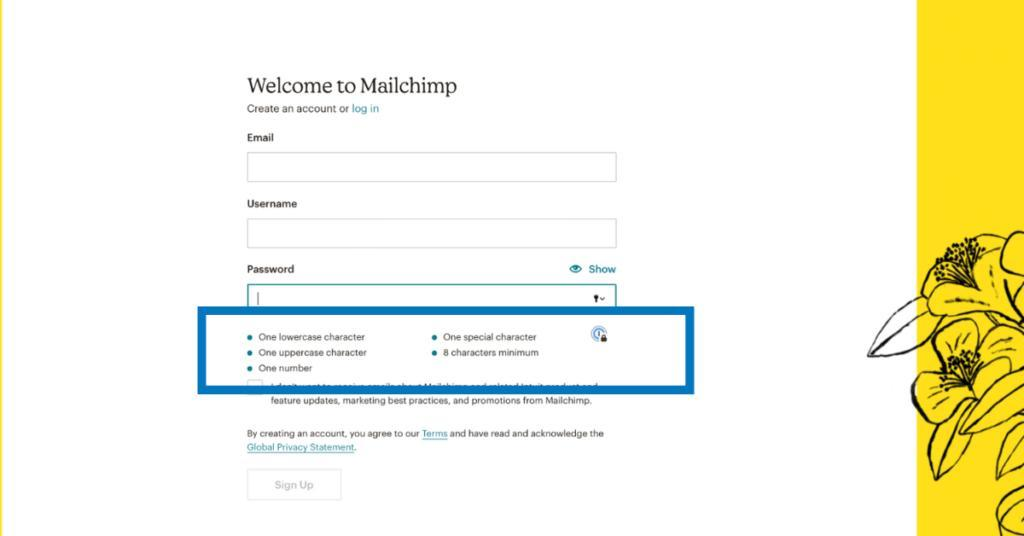button: (247, 471, 342, 501)
icon: (567, 261, 586, 277)
input: (247, 154, 618, 184), (249, 219, 617, 249)
label: (247, 196, 300, 211), (244, 264, 298, 276), (587, 260, 620, 276), (246, 130, 275, 146)
